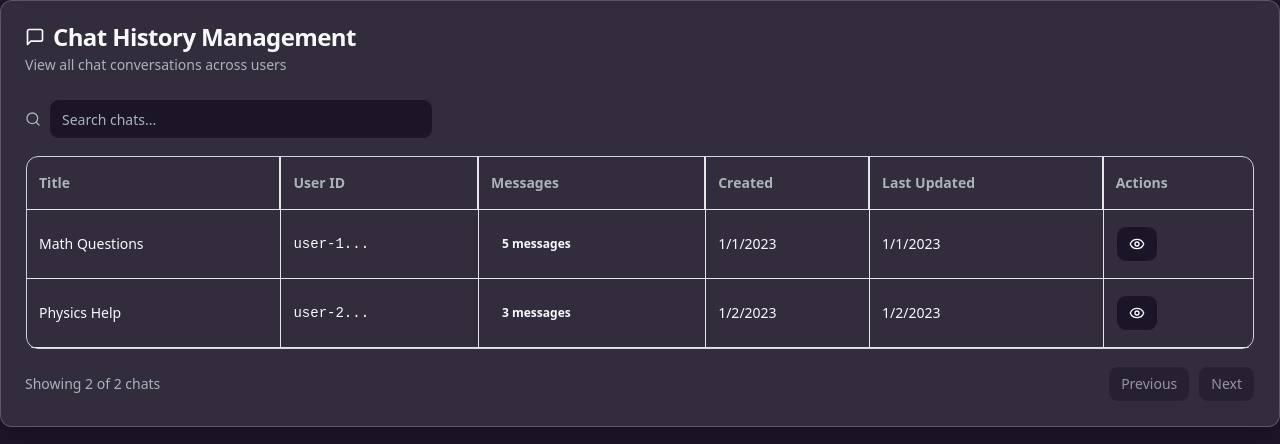
Scenario: AdminChatHistory › should filter chats by search term
Expected: the text "Math Questions" is shown, [27,210,281,279]
Type "Math" into the field with placeholder "Search chats..." at (241, 119), box [49,99,433,139]
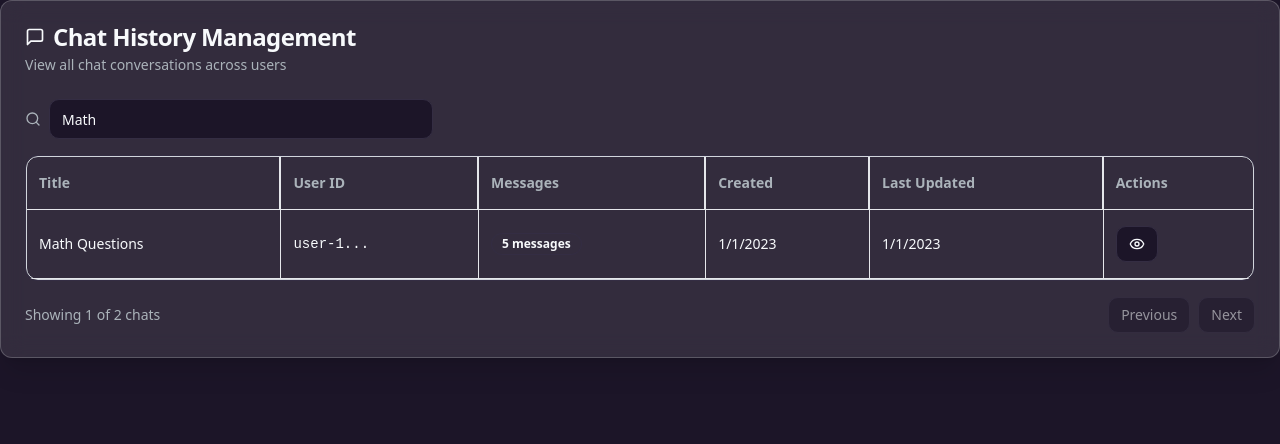
Expected: the text "Math Questions" is shown, [27,210,281,279]
Expected: the text "Physics Help" is gone
